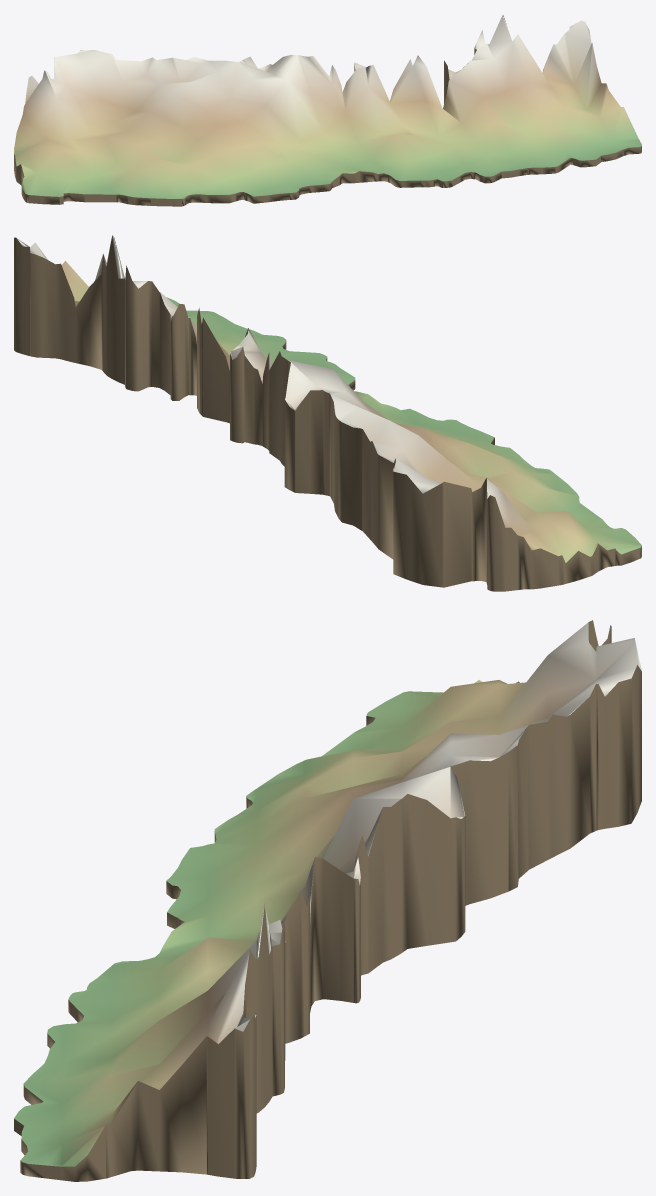
Rendered from NPL.glb.
3 renders of one model, top to bottom at view 1: azimuth 30°, elevation 25°; view 2: azimuth 150°, elevation 25°; view 3: azimuth 270°, elevation 25°, orthographic. The views are drawn at different scales.
Visible parts, largest first — view 1: NPL; view 2: NPL; view 3: NPL.
Part boxes in pixels (left/top/right/bottom): NPL: left=14, top=15, right=641, bottom=206; NPL: left=14, top=235, right=641, bottom=591; NPL: left=14, top=620, right=641, bottom=1181.
Size of the model in its own units: 1.69 by 0.338 by 0.9438.
